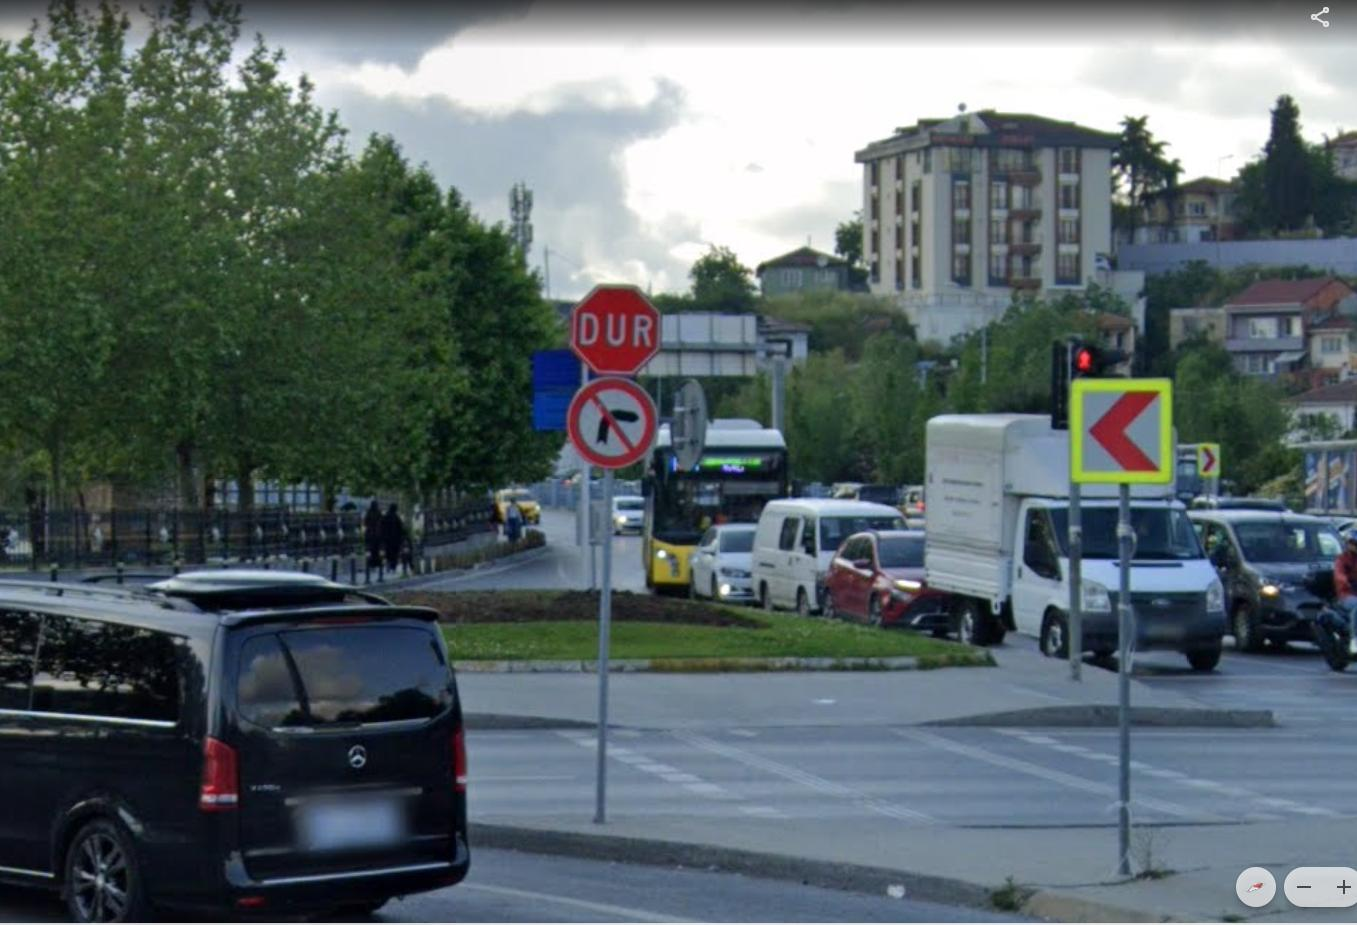rightturnsareforbidden: (565, 377, 660, 471)
stop: (575, 283, 663, 373)
